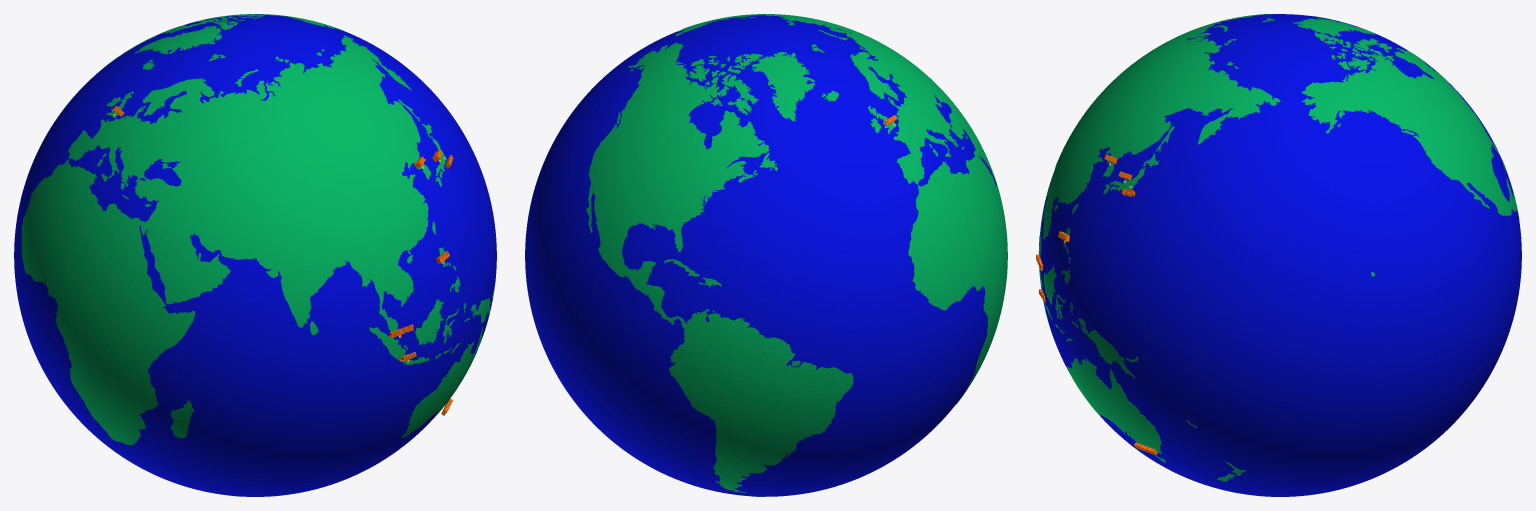
File: globeMin.glb
3 views of the same model, side by side, from view 1: azimuth 30°, elevation 25°; view 2: azimuth 150°, elevation 25°; view 3: azimuth 270°, elevation 25° (orthographic).
Visible parts, largest first — view 1: Object_2, Object_20, Object_16, Object_12, Object_17, Object_13; view 2: Object_2, Object_19, Object_20, Object_17, Object_15; view 3: Object_2, Object_20, Object_19, Object_16, Object_14, Object_17, Object_13.
Boxes of the visible parts, x1=… form: Object_2: x1=14, y1=14, x2=496, y2=496; Object_20: x1=21, y1=35, x2=431, y2=445; Object_16: x1=401, y1=327, x2=483, y2=437; Object_12: x1=170, y1=14, x2=458, y2=438; Object_17: x1=134, y1=26, x2=221, y2=54; Object_13: x1=106, y1=91, x2=446, y2=344; Object_2: x1=525, y1=15, x2=996, y2=496; Object_19: x1=586, y1=42, x2=853, y2=490; Object_20: x1=674, y1=14, x2=1007, y2=404; Object_17: x1=751, y1=52, x2=815, y2=121; Object_15: x1=721, y1=74, x2=758, y2=115; Object_2: x1=1039, y1=14, x2=1521, y2=496; Object_20: x1=1039, y1=14, x2=1280, y2=257; Object_19: x1=1301, y1=48, x2=1519, y2=218; Object_16: x1=1067, y1=357, x2=1161, y2=453; Object_14: x1=1078, y1=32, x2=1343, y2=377; Object_17: x1=1293, y1=18, x2=1376, y2=36; Object_13: x1=1043, y1=167, x2=1145, y2=304.
Bounding box in the file's own units: 2 × 2 × 2.01.
